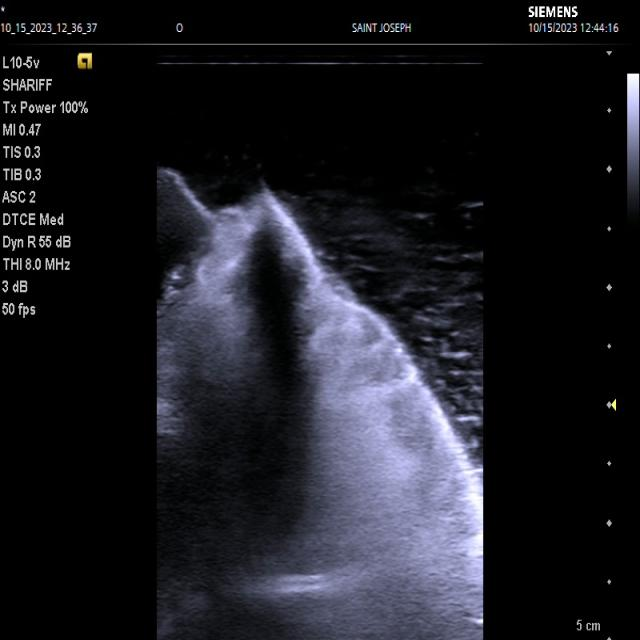tissue: (156, 176, 482, 640)
